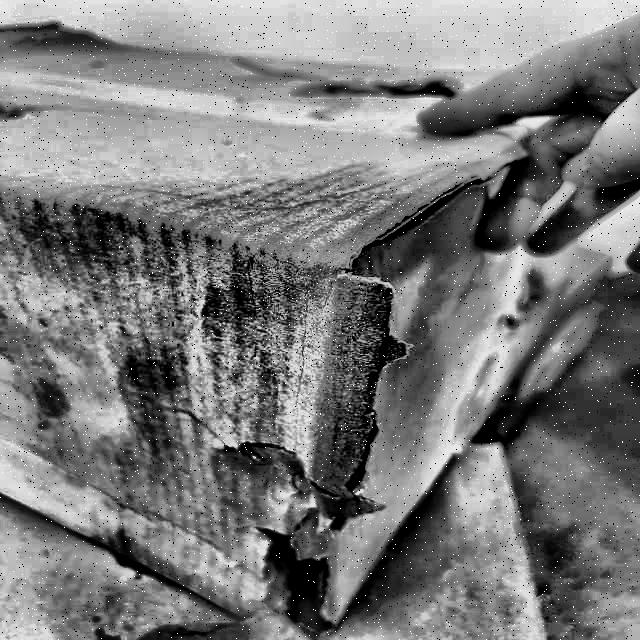box: (0, 24, 584, 619)
hole: (250, 519, 336, 635)
wet: (1, 181, 465, 614)
